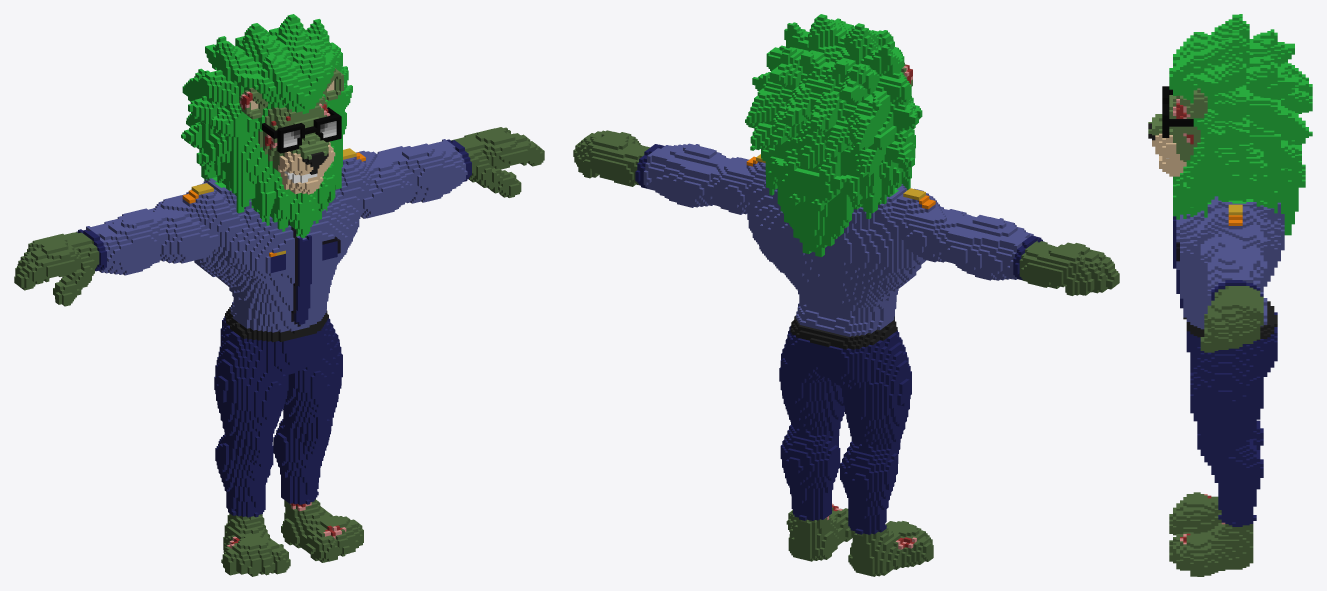
Rendered from 550-OAXpc1xX.fbx.
3 views of the same model, side by side, from view 1: azimuth 30°, elevation 25°; view 2: azimuth 150°, elevation 25°; view 3: azimuth 270°, elevation 25° (orthographic). The views are drawn at different scales.
Visible parts, largest first — view 1: grin; view 2: grin; view 3: grin.
Boxes of the visible parts, x1,y1,x2,y2 form: grin: [14, 14, 544, 576]; grin: [573, 14, 1119, 576]; grin: [1148, 14, 1312, 576].
Size of the model in its own units: 17.2 by 16.5 by 4.7.
5 materials, 5 textured.
